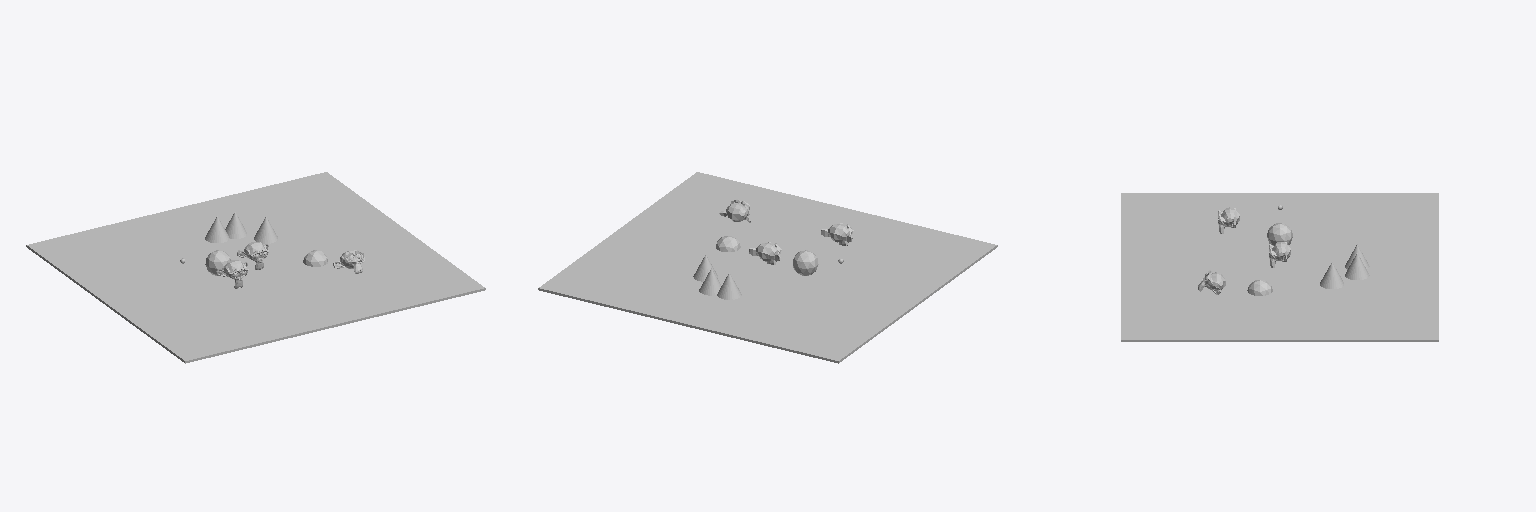
Rendered from scene_without_lights.obj.
The picture shows the model from 3 angles: view 1: azimuth 30°, elevation 25°; view 2: azimuth 150°, elevation 25°; view 3: azimuth 270°, elevation 25°; orthographic projection.
Visible parts, largest first — view 1: Cube; view 2: Cube; view 3: Cube.
Part boxes in pixels (x1,y1,x2,y2): Cube: (26, 172, 485, 363); Cube: (538, 172, 997, 363); Cube: (1121, 193, 1438, 341).
Size of the model in its own units: 26.02 by 4.01 by 23.85.